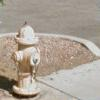Hydrant: (6, 14, 50, 100)
